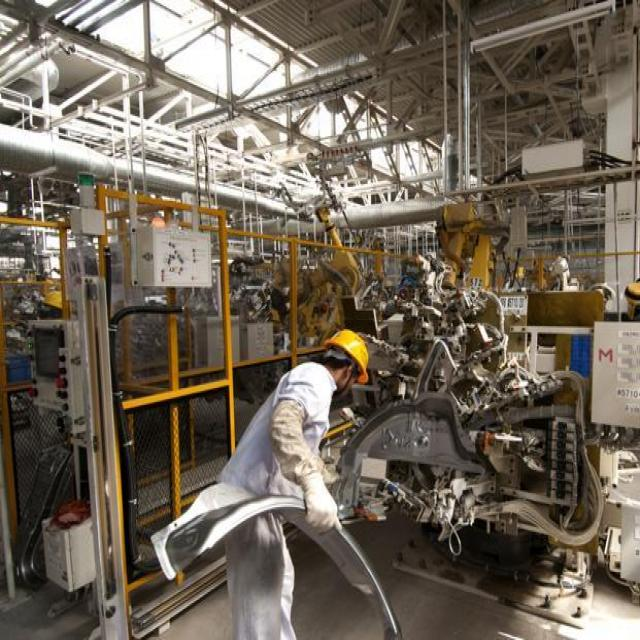Safety-Helmet: (324, 323, 370, 379)
